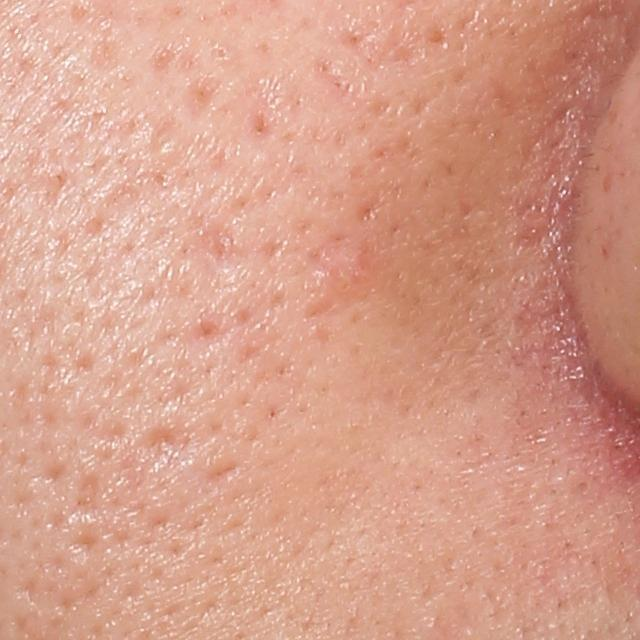atrophic_scar: (174, 73, 226, 127), (138, 424, 186, 466), (77, 463, 104, 512)
